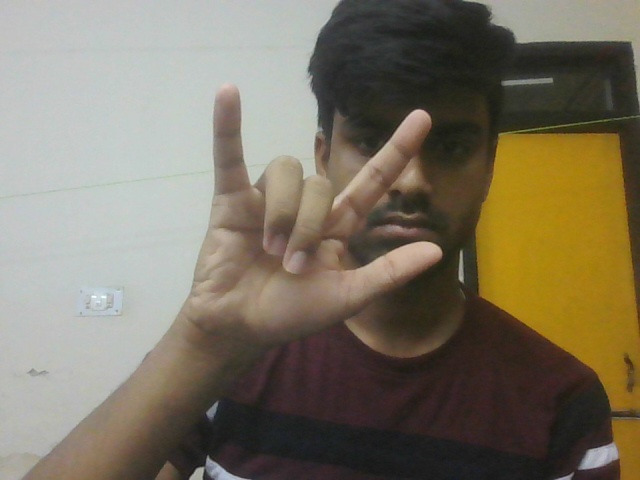iloveyou: (179, 80, 457, 370)
